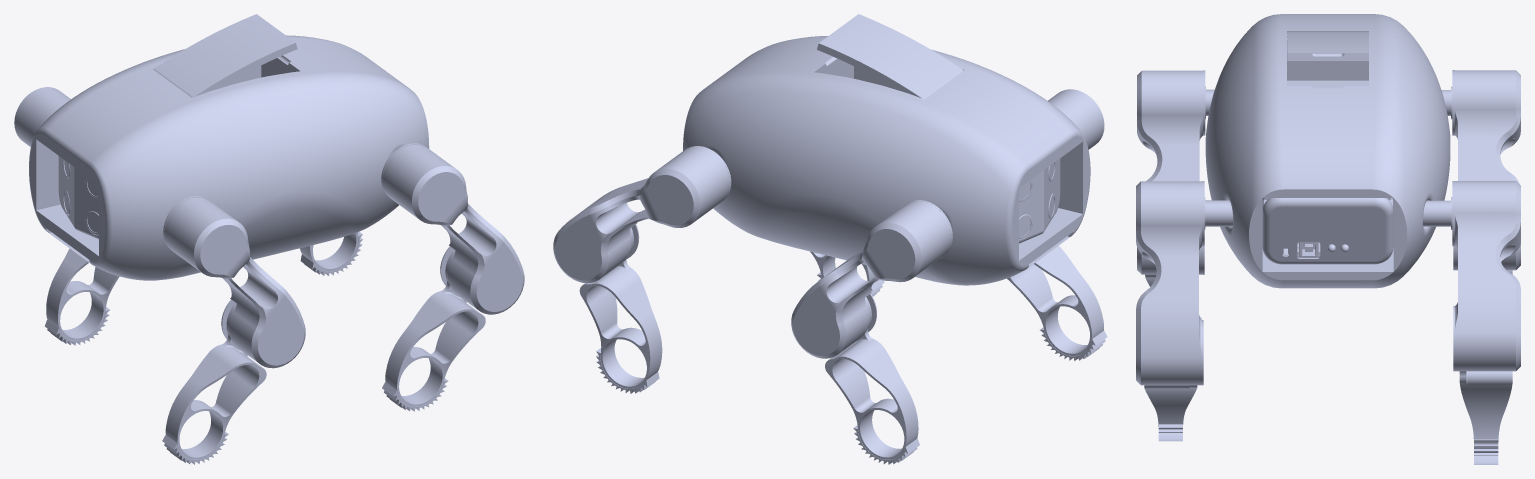
File: Guard_Bone_Shell.glb
The picture shows the model from 3 angles, left to right: view 1: azimuth 30°, elevation 25°; view 2: azimuth 150°, elevation 25°; view 3: azimuth 270°, elevation 25°; orthographic projection. The views are drawn at different scales.
Parts seen in each view (by area): view 1: Guard_Shell-1, THIGH_RH-1 (×2), WRIST_RH_1-1 (×2), Container-1, WRIST_RH_1_MIR-1 (×2), THIGH_RH_MIR-1, NOSE_REMODEL-1; view 2: Guard_Shell-1, THIGH_RH_MIR-1 (×2), WRIST_RH_1_MIR-1 (×2), Container-1, WRIST_RH_1-1, NOSE_REMODEL-1, THIGH_RH-1; view 3: Guard_Shell-1, THIGH_RH-1 (×2), THIGH_RH_MIR-1 (×2), BODY_REMODEL-1, WRIST_RH_1_MIR-1, Container-1, BODY_REMODEL_LID-1, WRIST_RH_1-1, FOOT_GRIP-1 (×2), SHOULDER_PIN_MIR-1, SHOULDER_PIN-1.
Part boxes in pixels (x1,y1,x2,y2): Guard_Shell-1: (29, 35, 429, 280); THIGH_RH-1 (×2): (164, 144, 524, 368); WRIST_RH_1-1 (×2): (165, 249, 485, 459); Container-1: (153, 14, 297, 97); WRIST_RH_1_MIR-1 (×2): (46, 232, 358, 340); THIGH_RH_MIR-1: (14, 87, 70, 146); NOSE_REMODEL-1: (58, 156, 98, 239); Guard_Shell-1: (683, 36, 1090, 285); THIGH_RH_MIR-1 (×2): (553, 147, 951, 358); WRIST_RH_1_MIR-1 (×2): (579, 227, 918, 459); Container-1: (817, 14, 963, 99); WRIST_RH_1-1: (1007, 245, 1103, 355); NOSE_REMODEL-1: (1019, 158, 1060, 243); THIGH_RH-1: (1048, 89, 1104, 149); Guard_Shell-1: (1205, 14, 1450, 288); THIGH_RH-1 (×2): (1136, 70, 1202, 385); THIGH_RH_MIR-1 (×2): (1455, 70, 1520, 371); BODY_REMODEL-1: (1262, 212, 1393, 264); WRIST_RH_1_MIR-1: (1459, 371, 1512, 441); Container-1: (1287, 31, 1368, 60); BODY_REMODEL_LID-1: (1262, 198, 1393, 215); WRIST_RH_1-1: (1144, 385, 1197, 426); FOOT_GRIP-1 (×2): (1158, 424, 1498, 464); SHOULDER_PIN_MIR-1: (1423, 197, 1452, 229); SHOULDER_PIN-1: (1204, 197, 1233, 229).
Bounding box in the file's own units: 0.2933 × 0.2379 × 0.2351.
